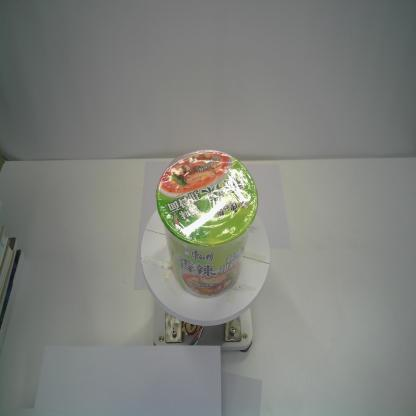Instant Noodles: (154, 148, 259, 300)
